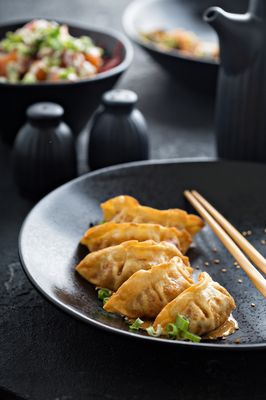pizza: (201, 1, 266, 162)
sushi: (19, 156, 263, 366), (0, 17, 135, 136), (0, 18, 135, 94), (121, 0, 254, 66)
